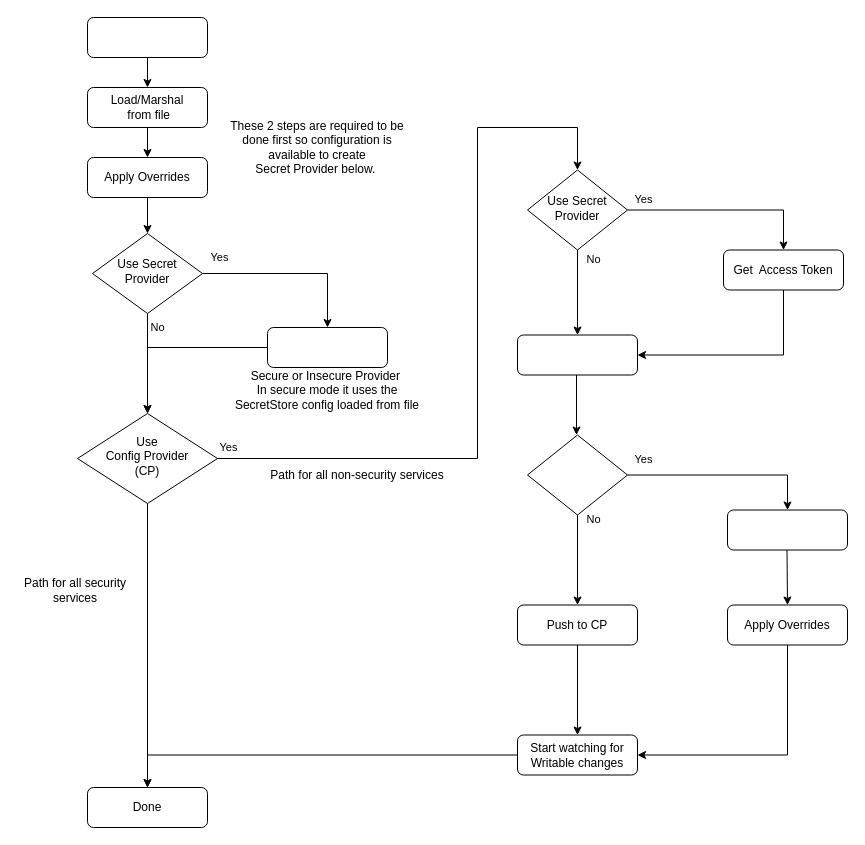
Image size: 865x845. Some labels were removed from this diagram. Each missing label, with the centre of its shape:
CP has config: (x=577, y=474)
Create Config Client: (x=577, y=354)
Create Secret Provider: (x=327, y=347)
Load/Marshal from CP: (x=787, y=529)
Start Processing Config: (x=147, y=37)
